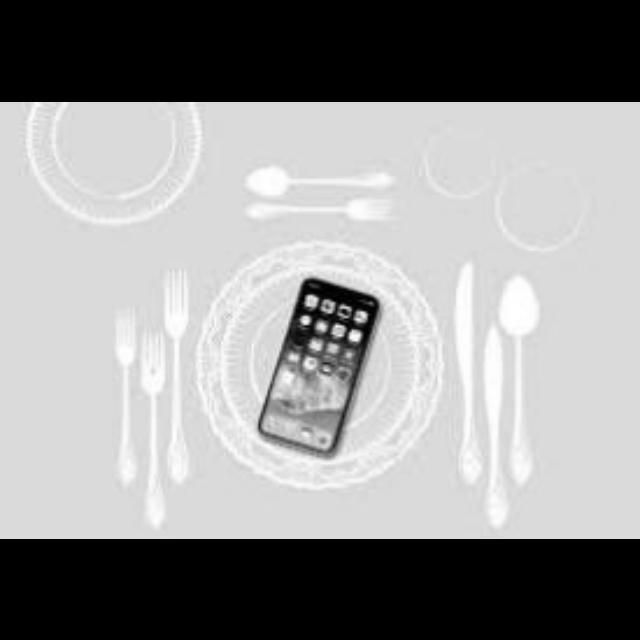fake: (220, 257, 434, 472)
